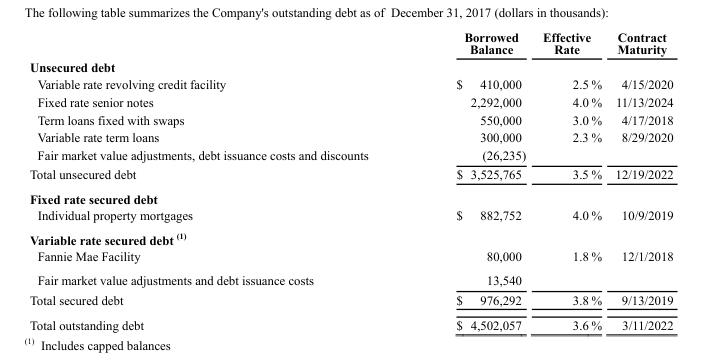table: (28, 29, 672, 331)
table column: (28, 29, 411, 331), (411, 29, 533, 331), (533, 29, 607, 331), (607, 29, 672, 331)
table column header: (28, 29, 672, 58)
table projected row header: (28, 226, 672, 247), (28, 186, 672, 206), (28, 58, 672, 75)
table row: (28, 29, 672, 58), (28, 289, 672, 312), (28, 164, 672, 186), (28, 226, 672, 247), (28, 247, 672, 268), (28, 268, 672, 289), (28, 186, 672, 206), (28, 206, 672, 226), (28, 312, 672, 331), (28, 92, 672, 110), (28, 110, 672, 128), (28, 128, 672, 146), (28, 146, 672, 164), (28, 58, 672, 75), (28, 75, 672, 92)
